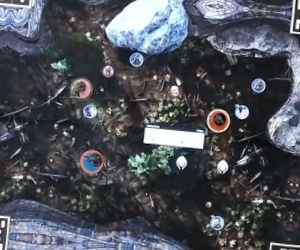light_blue_orange: (78, 149, 103, 174)
orange: (205, 107, 230, 132)
pink_green: (67, 74, 92, 100)
